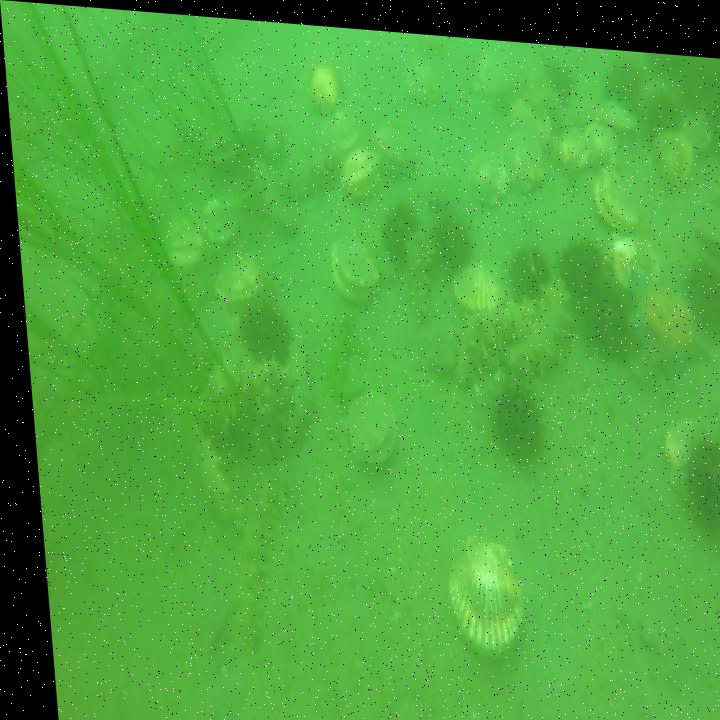echinus: (475, 361, 543, 467), (570, 258, 633, 357), (668, 411, 720, 529), (232, 282, 288, 366), (674, 238, 720, 336), (422, 201, 476, 275), (554, 220, 603, 301), (632, 72, 687, 142), (375, 187, 422, 261), (500, 232, 549, 299), (598, 47, 643, 103), (696, 59, 720, 148), (645, 41, 699, 79)
holothurian: (214, 469, 285, 651), (441, 280, 538, 392), (485, 258, 573, 375), (175, 412, 242, 534), (268, 311, 317, 447), (186, 334, 251, 420), (277, 138, 351, 203), (249, 150, 302, 231), (400, 215, 436, 318), (232, 350, 291, 412), (351, 198, 390, 278)
scallop: (433, 523, 523, 658), (649, 390, 707, 500), (333, 379, 401, 469), (177, 296, 245, 373), (585, 151, 642, 236), (323, 230, 380, 307), (457, 130, 510, 210), (500, 112, 549, 197), (203, 238, 261, 306), (645, 114, 696, 190), (603, 221, 661, 286), (157, 203, 208, 272), (443, 246, 501, 306), (502, 82, 554, 147), (366, 118, 424, 176), (397, 41, 447, 108), (336, 135, 386, 202), (197, 106, 247, 170), (303, 51, 347, 116), (577, 104, 626, 159), (549, 111, 591, 171), (591, 86, 638, 124)
starfish: (625, 260, 705, 374)
